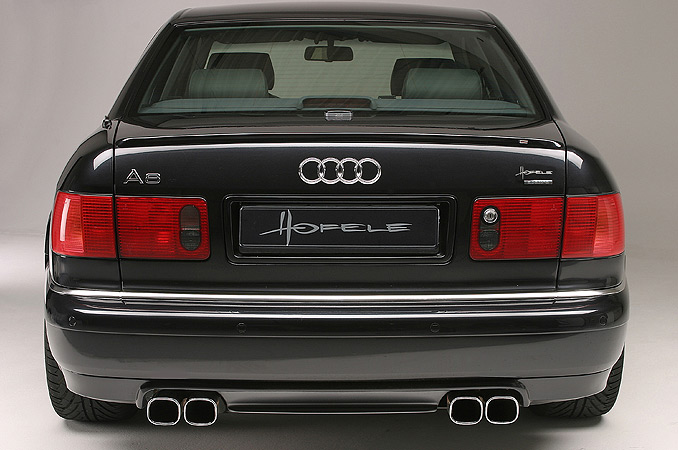audi: (291, 146, 385, 188)
